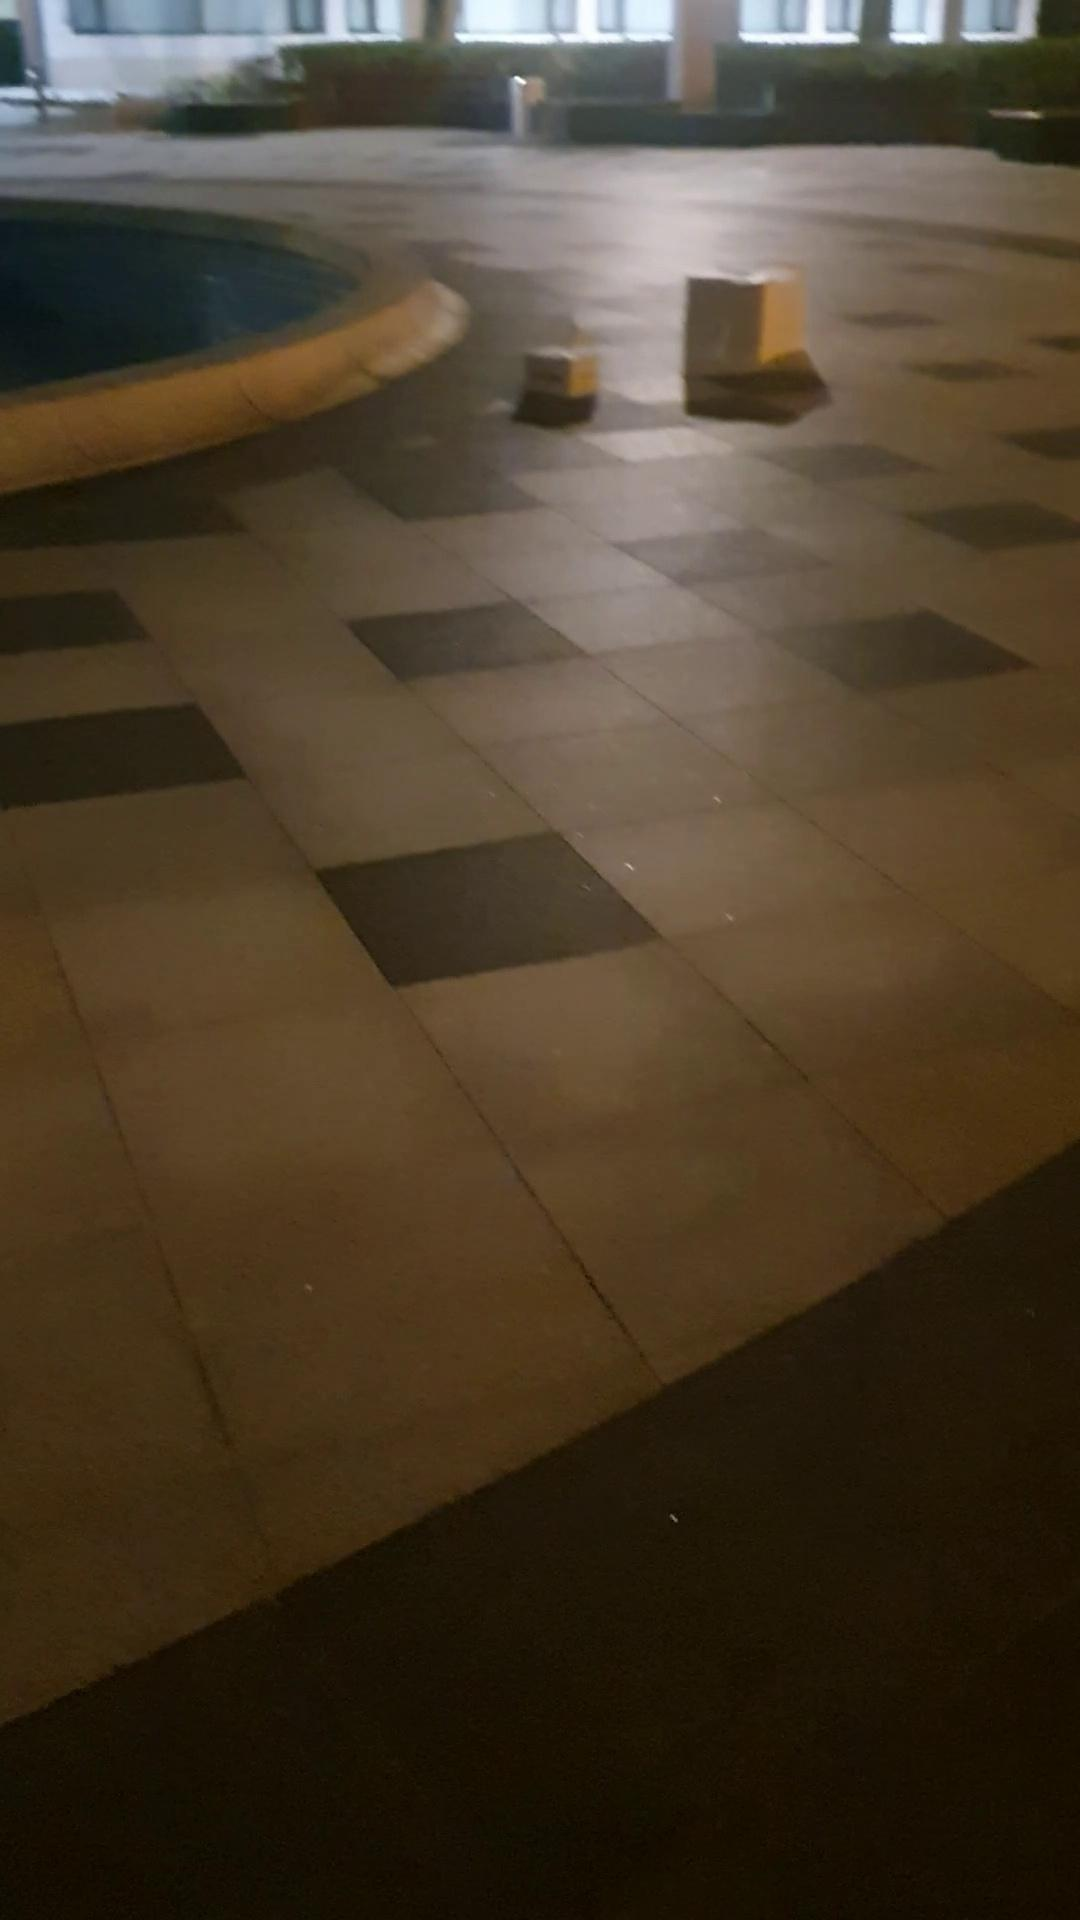Box: (669, 265, 824, 397), (516, 343, 618, 407)
